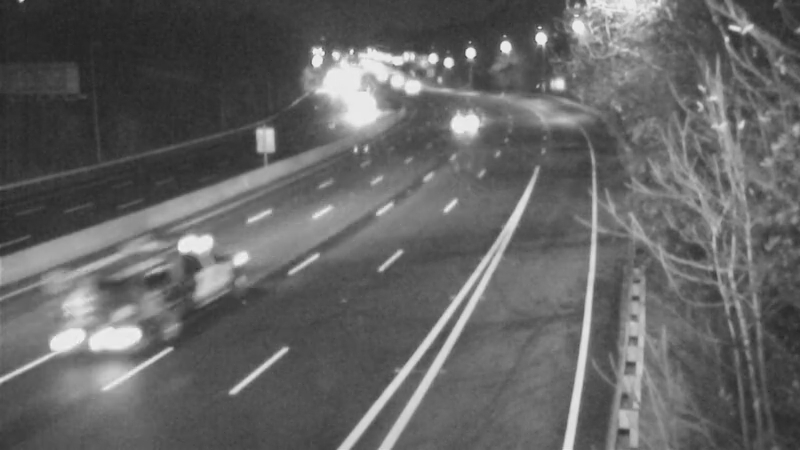vehicle: (433, 102, 483, 152), (123, 275, 173, 325), (327, 92, 377, 142)
